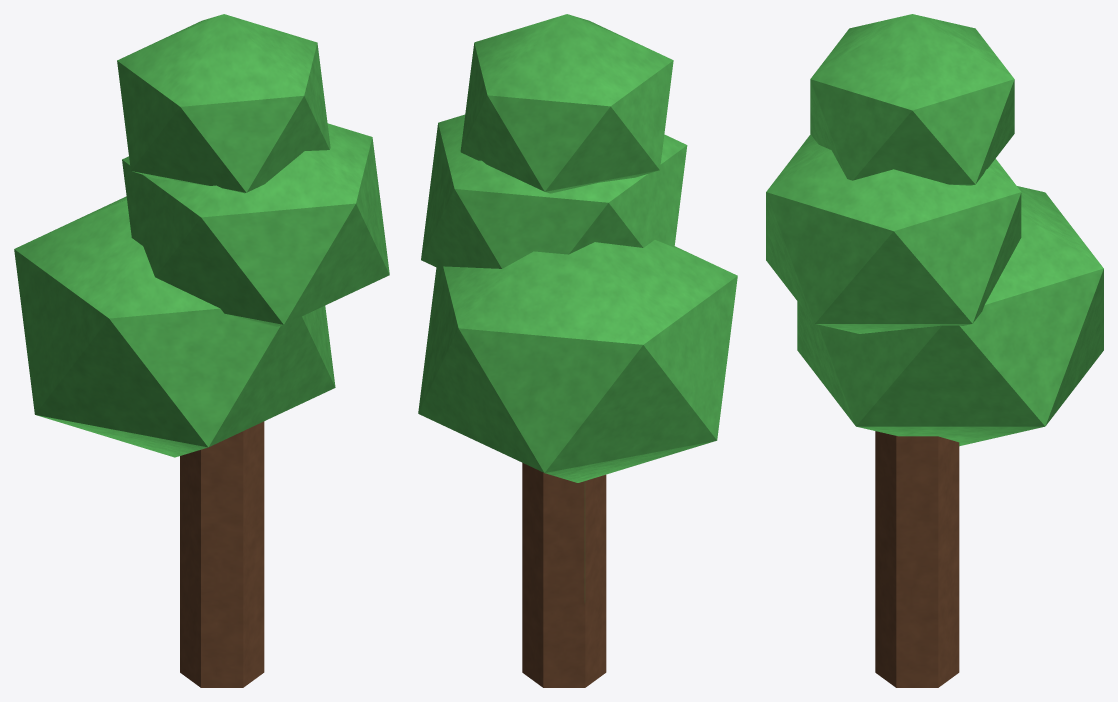
Rendered from tree.fbx.
3 renders of one model, left to right at view 1: azimuth 30°, elevation 25°; view 2: azimuth 150°, elevation 25°; view 3: azimuth 270°, elevation 25°, orthographic.
Parts seen in each view (by area): view 1: Tree; view 2: Tree; view 3: Tree.
Part boxes in pixels (box(x1,y1,x2,y2)): Tree: box(14, 14, 389, 687); Tree: box(418, 14, 737, 687); Tree: box(766, 14, 1103, 687).
Bounding box in the file's own units: 2.96 × 6.05 × 2.81.
1 material, 1 textured.
